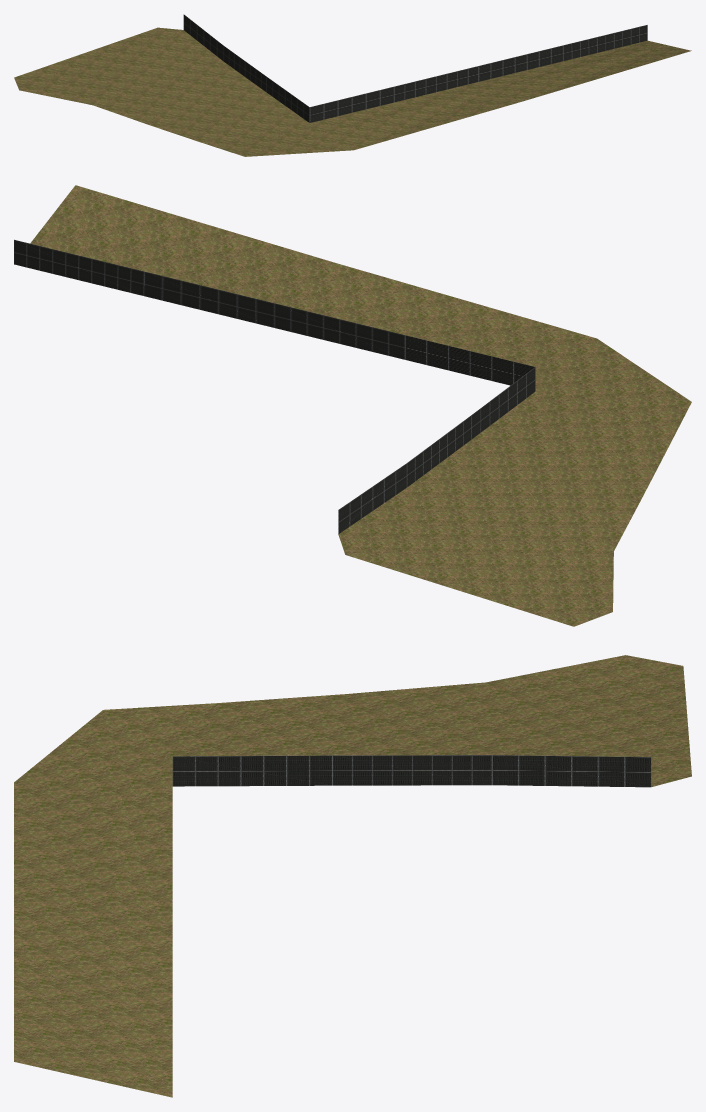
File: des_reffenc04.obj
The picture shows the model from 3 angles, top to bottom: view 1: azimuth 30°, elevation 25°; view 2: azimuth 150°, elevation 25°; view 3: azimuth 270°, elevation 25°; orthographic projection. The views are drawn at different scales.
Parts seen in each view (by area): view 1: des_reffenc04; view 2: des_reffenc04; view 3: des_reffenc04.
Boxes of the visible parts, bbox=[...] form: des_reffenc04: bbox=[14, 14, 691, 156]; des_reffenc04: bbox=[14, 185, 691, 626]; des_reffenc04: bbox=[14, 655, 691, 1097].
Bounding box in the file's own units: 150 × 9.65 × 91.23.
Materials: 2 (2 with a texture image).
